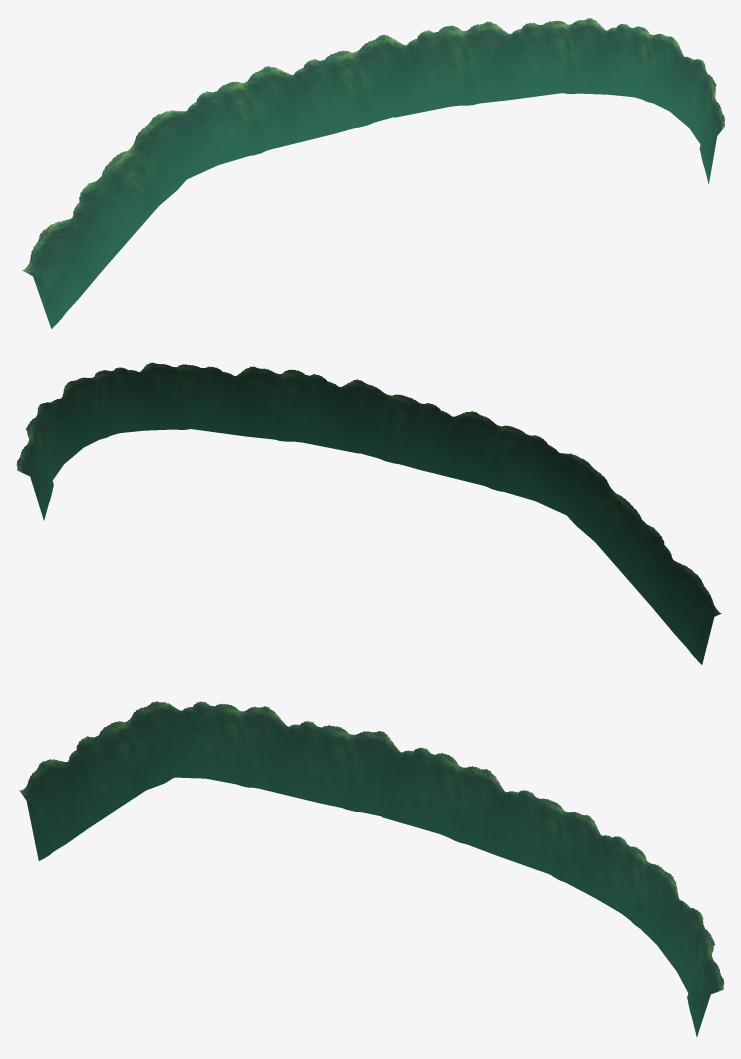
Rendered from Horizon Hill.FBX.
The picture shows the model from 3 angles, top to bottom: view 1: azimuth 30°, elevation 25°; view 2: azimuth 150°, elevation 25°; view 3: azimuth 330°, elevation 25°; orthographic projection.
Parts seen in each view (by area): view 1: Hoizon; view 2: Hoizon; view 3: Hoizon.
Part boxes in pixels (left/top/right/bottom): Hoizon: left=22, top=18, right=724, bottom=328; Hoizon: left=16, top=362, right=721, bottom=664; Hoizon: left=19, top=701, right=724, bottom=1037.
Size of the model in its own units: 8132 by 126 by 2527.
